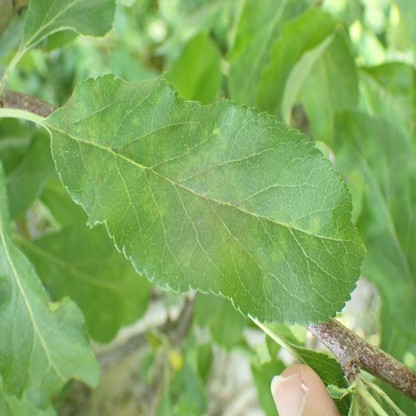scab: (188, 150, 252, 267), (84, 112, 130, 184), (141, 131, 187, 183), (142, 183, 168, 219), (252, 249, 273, 289), (174, 104, 195, 132), (306, 217, 319, 254), (62, 98, 75, 132), (270, 236, 286, 262), (91, 83, 103, 109), (212, 127, 224, 146), (200, 128, 208, 146), (132, 114, 140, 125)
